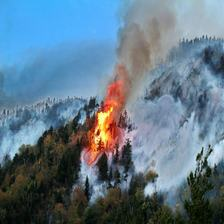fire: (78, 64, 160, 169)
